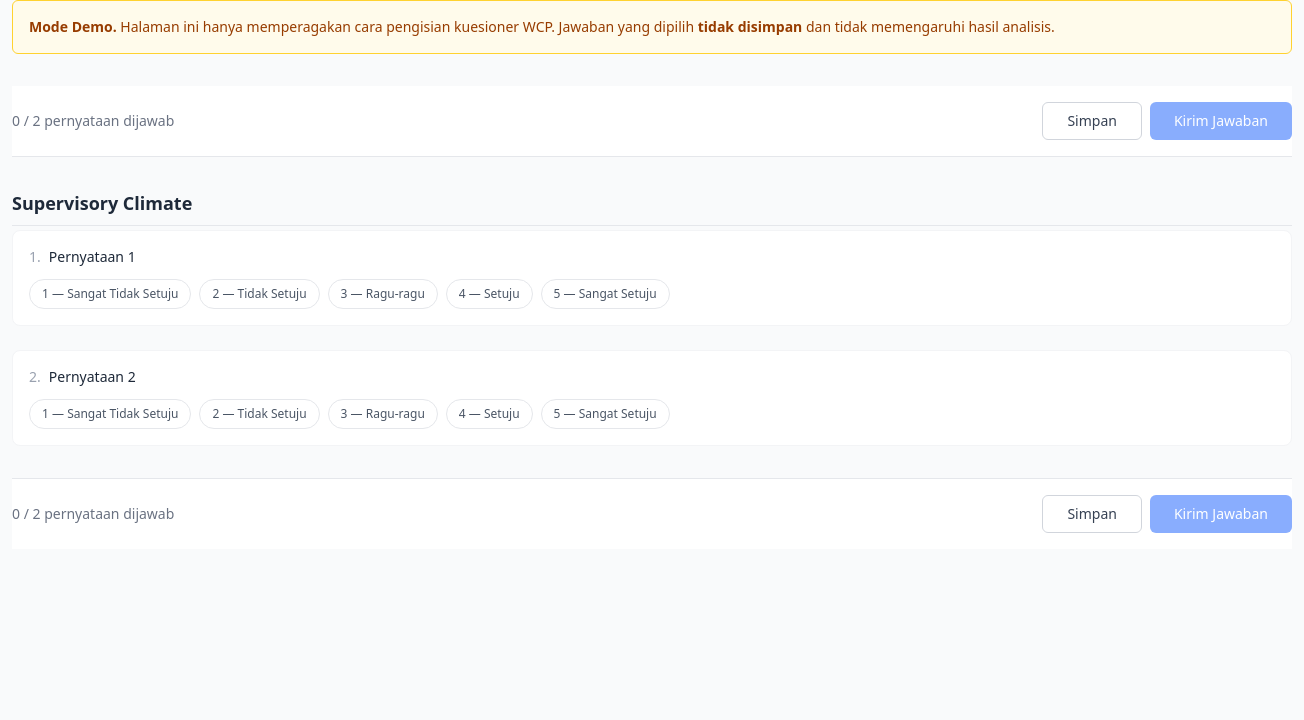
Test: WcpForm — mode demo tidak menyentuh backend › Kirim Jawaban di mode demo → panel 'Peragaan selesai', TANPA PUT/POST/refresh
This screenshot has width=1304, height=720.
Click the 1st radio button labelled "5 — Sangat Setuju" at (605, 294), box [541,279,670,309]
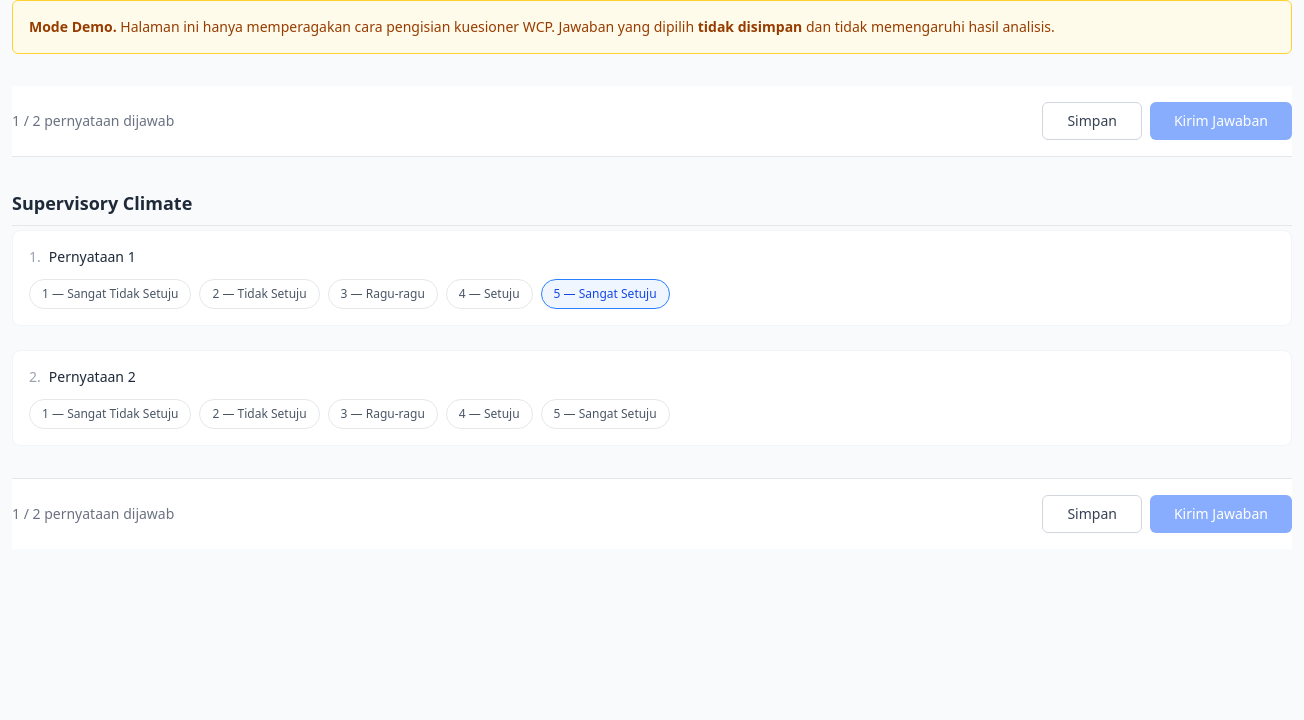
Click the 2nd radio button labelled "4 — Setuju" at (489, 414), box [446,399,533,429]
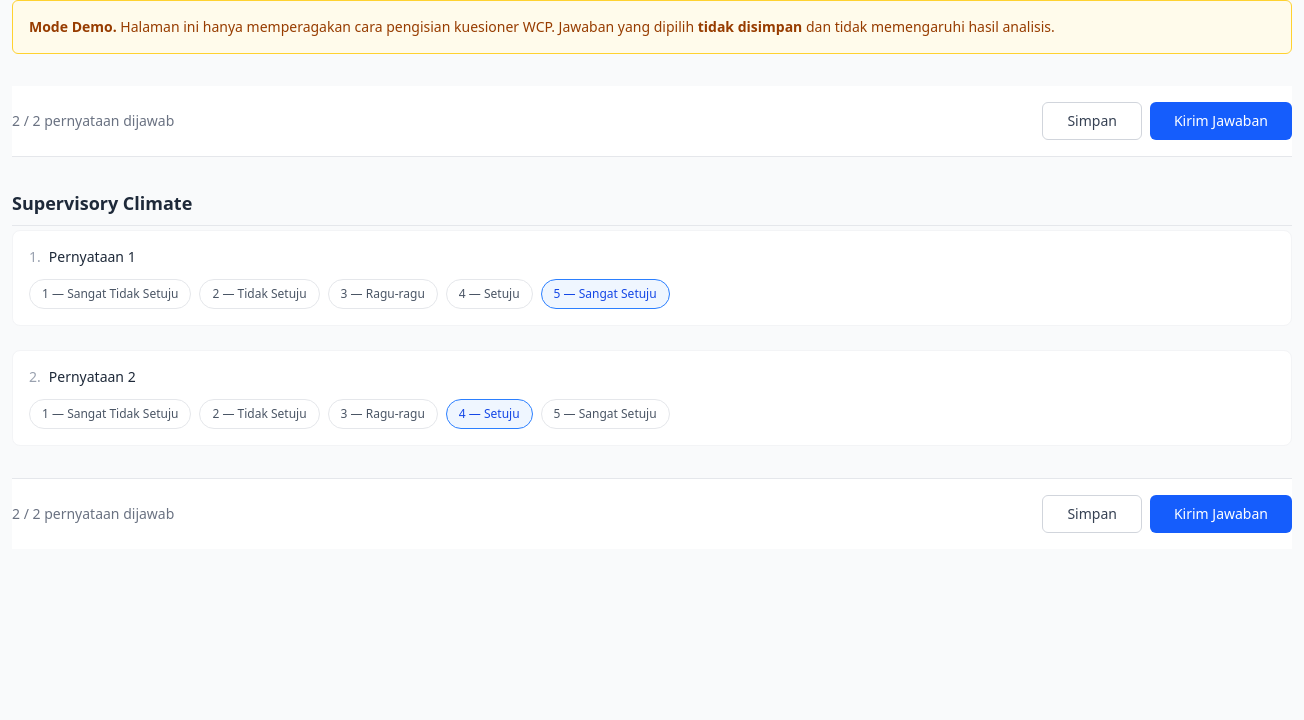
Click the 1st button "Kirim Jawaban" at (1221, 121), box [1150,102,1292,140]
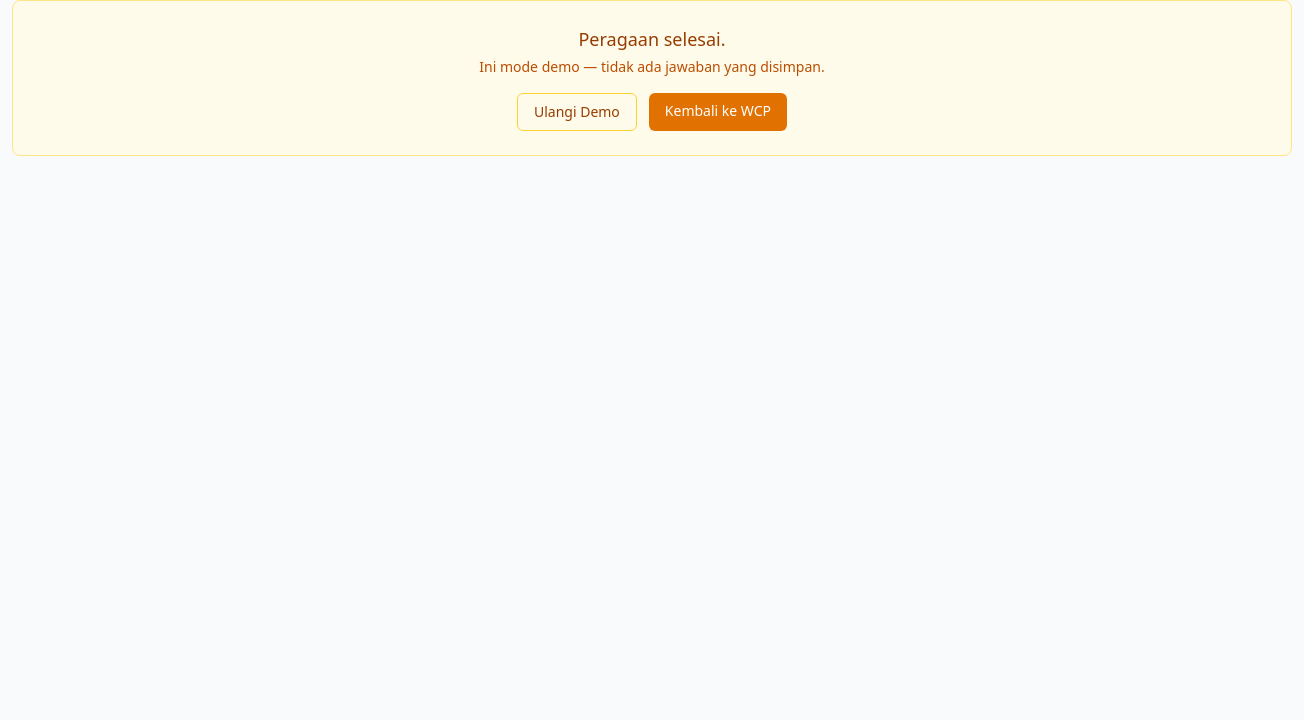
Expected: the text "Peragaan selesai." is shown, [578,27,726,51]
